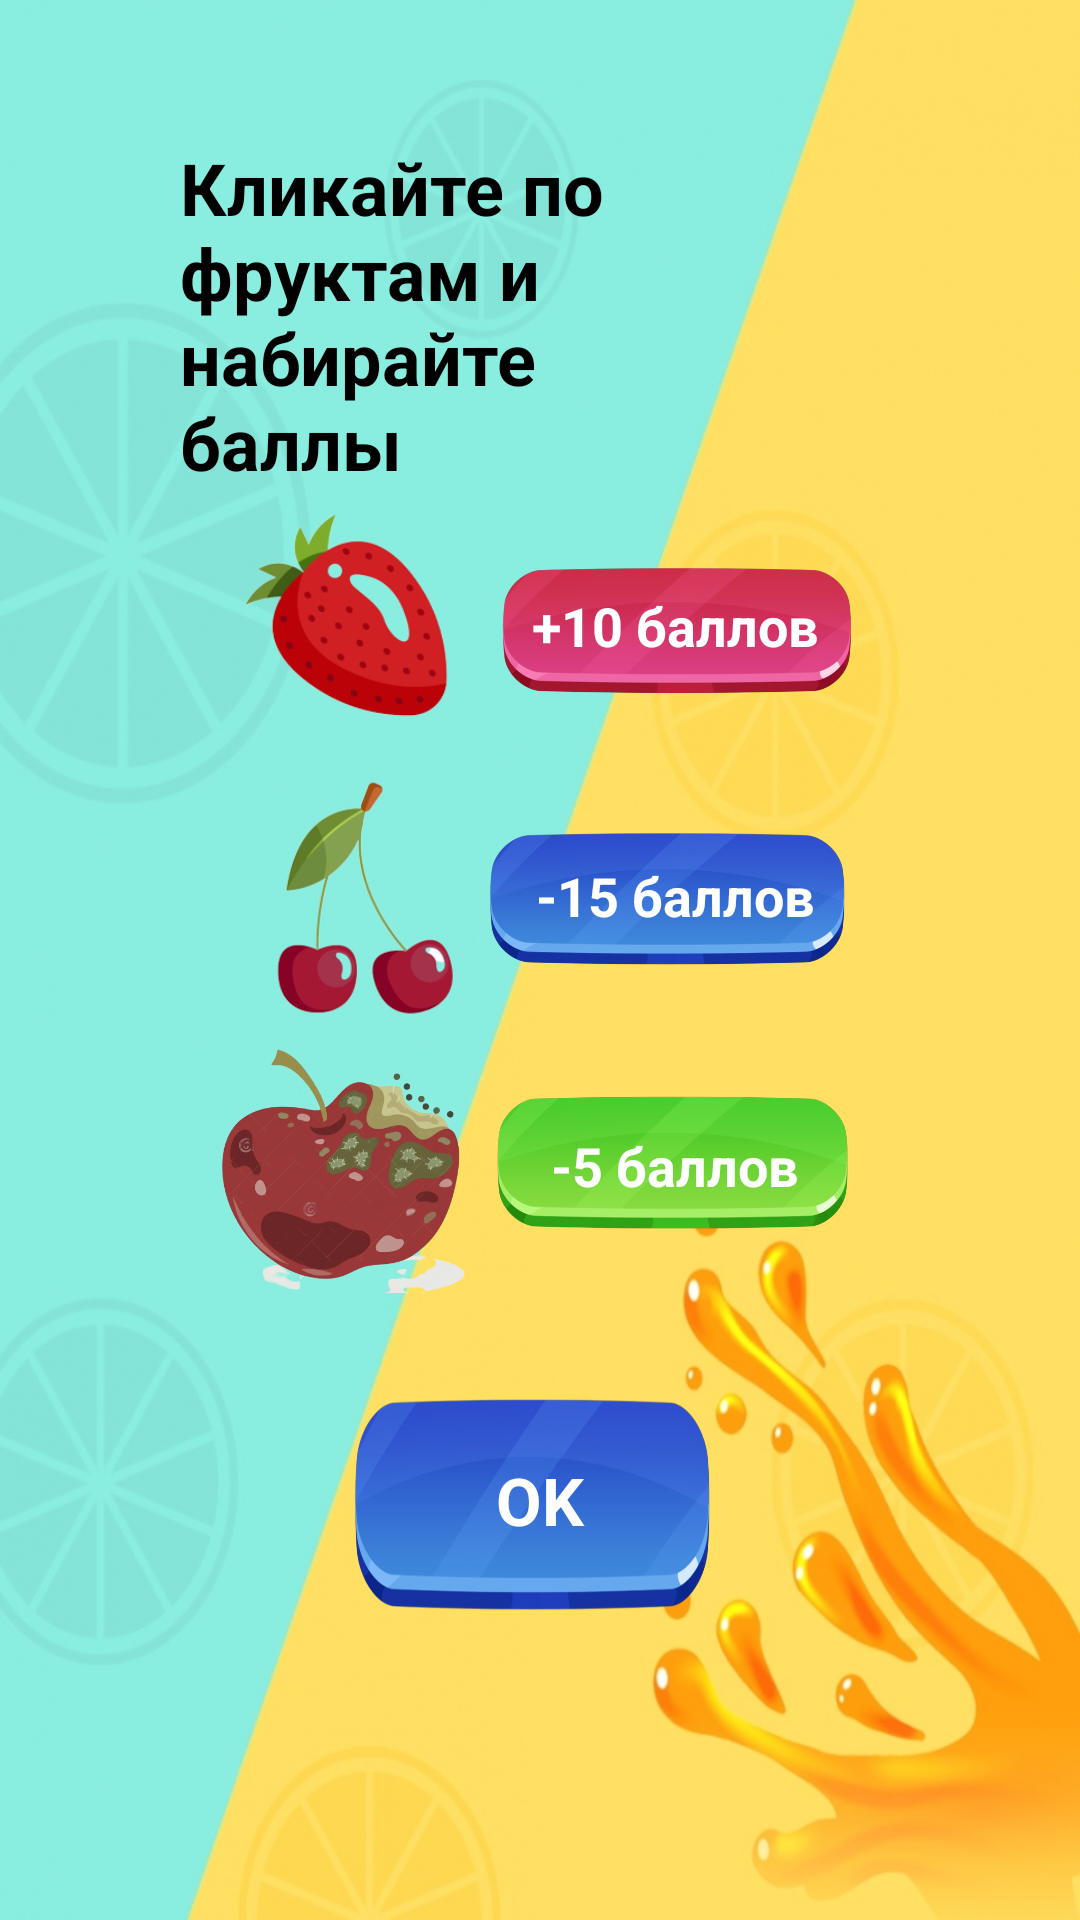

Where to tap for icons on this 1080*1920 app screen, as point (x, y):
fruit: point (346, 615), point (365, 898), point (351, 1175)
